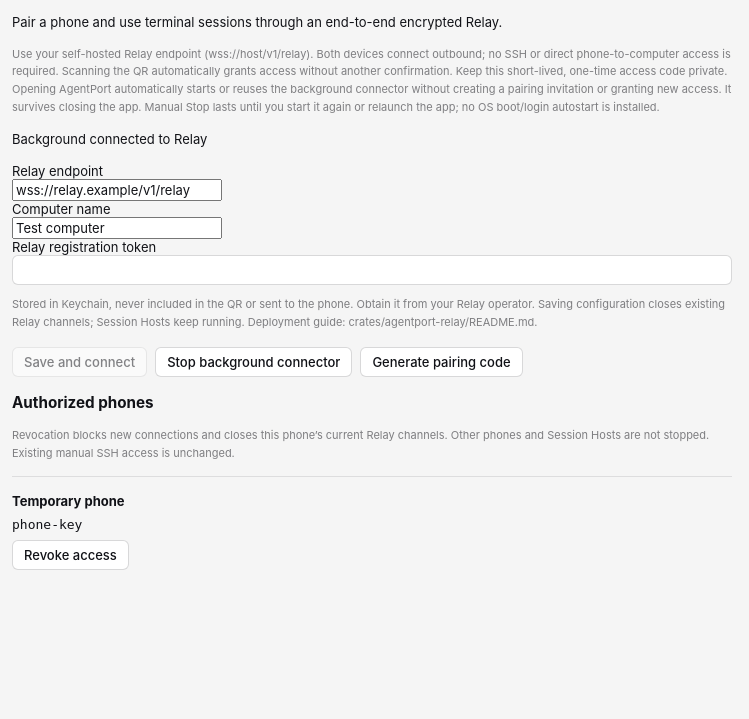
it: copies the exact QR bearer payload as a pairing link for another computer
Expected: the text "Background connected to Relay" is shown, [12,131,207,147]
Click the button "Generate pairing code" at (442, 362), box [360,347,523,377]
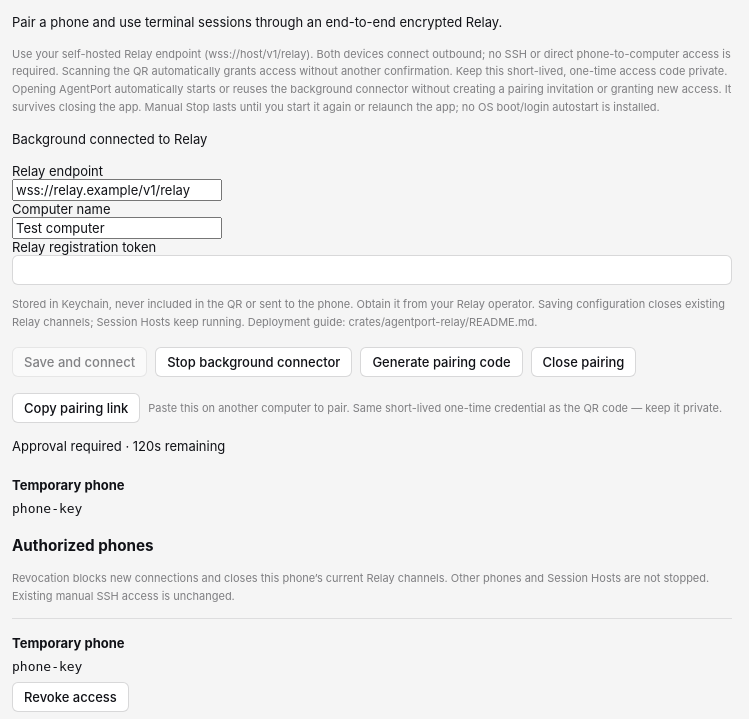
Click the button "Copy pairing link" at (76, 408), box [12,393,140,423]
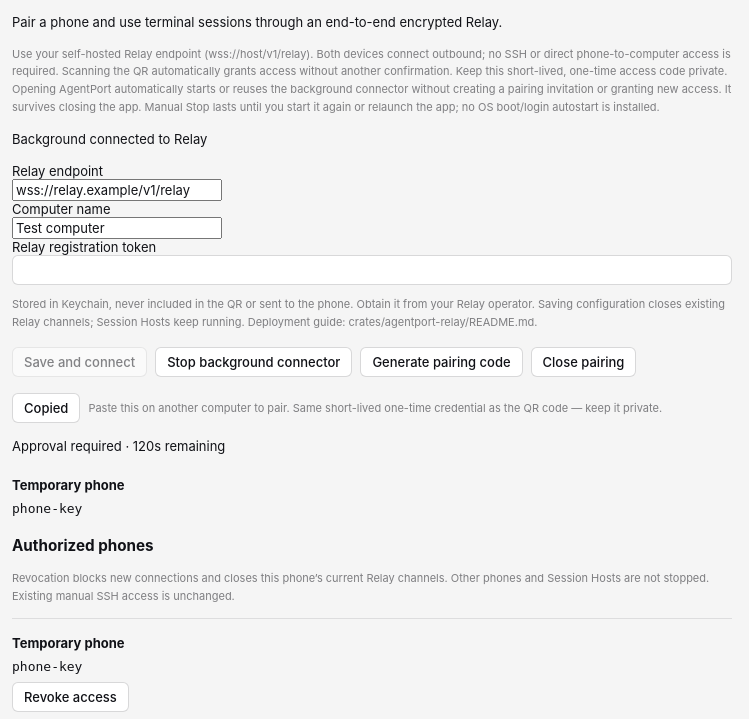
Expected: the button "Copied" is shown, [12,393,80,423]
